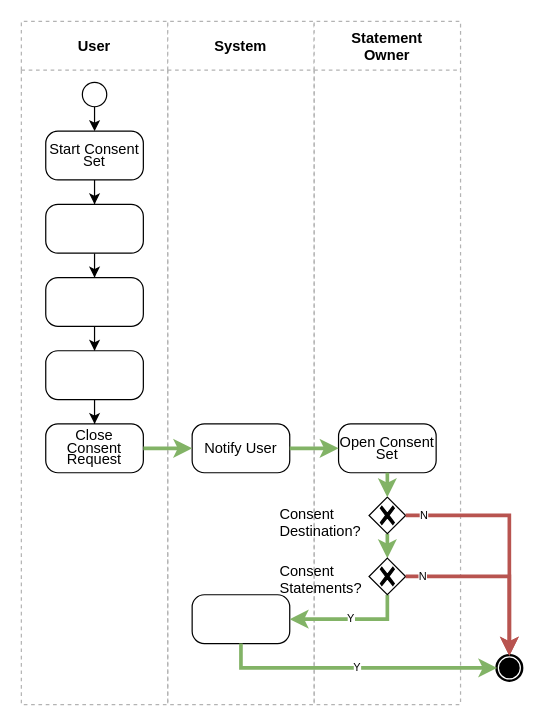
Some shapes in this 543 by 726 pixel diagram are drawn without their labels. Each missing label, with the centre of its shape:
(optional) Notify Consented Dest Group: the point at 240,619
Select Destination Person: the point at 94,301
Select Source Person: the point at 94,228
Select Statements to Share: the point at 94,375
